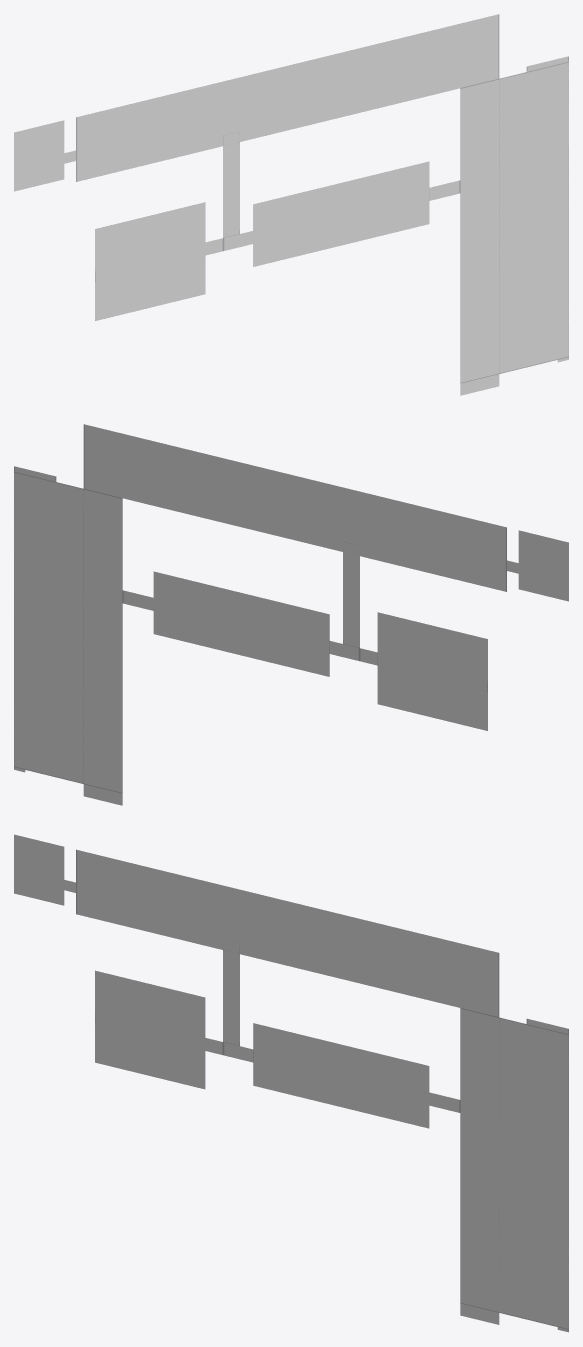
Rendered from isima2d_o.obj.
The picture shows the model from 3 angles, top to bottom: view 1: azimuth 30°, elevation 25°; view 2: azimuth 150°, elevation 25°; view 3: azimuth 330°, elevation 25°; orthographic projection.
Visible parts, largest first — view 1: isima; view 2: isima; view 3: isima.
Part boxes in pixels (x1=…): isima: x1=14, y1=14, x2=568, y2=395; isima: x1=14, y1=424, x2=568, y2=805; isima: x1=14, y1=834, x2=568, y2=1332.
Bounding box in the file's own units: 1762 × 1129 × 0.
1 material, 1 textured.
